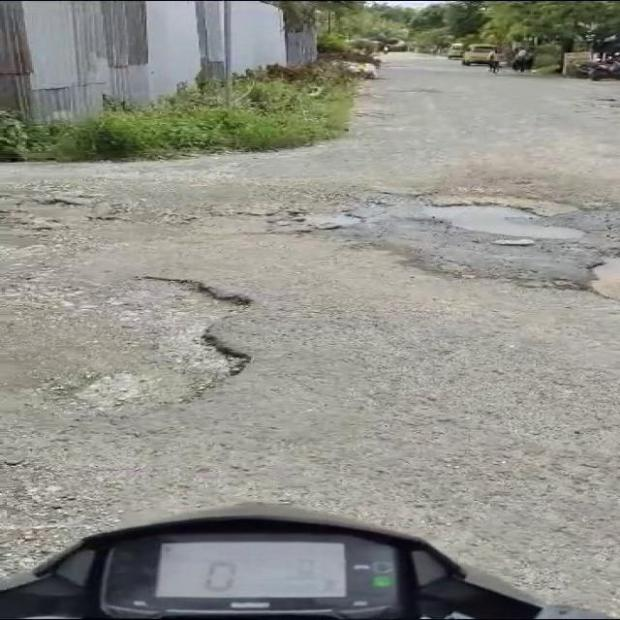lubang: (0, 273, 249, 414), (366, 177, 619, 298), (0, 186, 364, 233)
